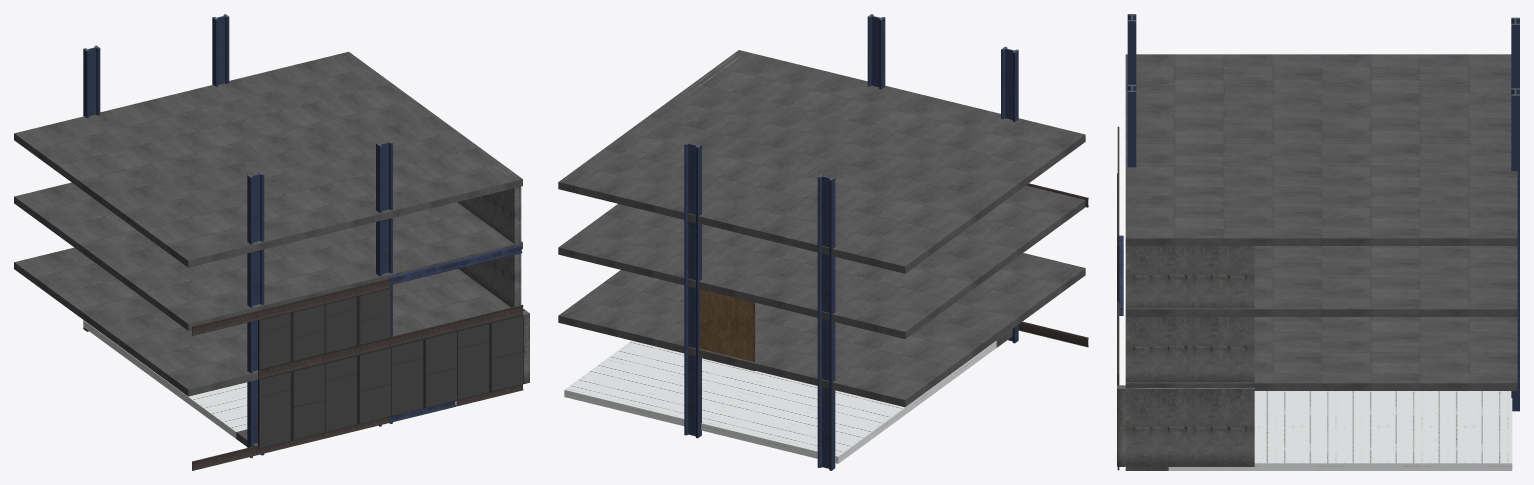
File: BuildingMap_0_0.gltf
3 renders of one model, left to right at view 1: azimuth 30°, elevation 25°; view 2: azimuth 150°, elevation 25°; view 3: azimuth 270°, elevation 25°, orthographic. The views are drawn at different scales.
Parts seen in each view (by area): view 1: SM_Floors_Thick_160, SM_Floors_Thick_161, SM_Floors_Thick_115, SM_Floors_Thick_112, SM_Floors_Thick_116, SM_Floors_Thick_113, SM_Facade_GlassWall29, SM_Facade_GlassWall33, SM_Facade_GlassWall35, SM_Facade_GlassWall38, SM_Facade_GlassWall39, SM_Facade_GlassWall40 (+19 smaller); view 2: SM_Floors_Thick_160, SM_Floors_Thick_161, SM_Floors_Thick_115, SM_Floors_Thick_112, SM_Floors_Thick_34, SM_Floors_Thick_116, SM_Floors_Thick_28, SM_Floors_Thick_113, SM_Wall_Inside_56, SM_Building_Pieces_2_SteelRudder182, SM_Building_Pieces_2_SteelRudder183, SM_Building_Pieces_2_SteelRudder185 (+5 smaller); view 3: SM_Floors_Thick_160, SM_Floors_Thick_161, SM_Floors_Thick_113, SM_Floors_Thick_116, SM_Floors_Thick_28, SM_Building_Pieces_WallConcrete6m29, SM_Building_Pieces_WallConcrete6m23, SM_Building_Pieces_WallConcrete6m42, SM_Floors_Thick_9, SM_Building_Pieces_2_SteelRudder185, SM_Building_Pieces_2_SteelRudder150, SM_Concrete_Column9 (+3 smaller).
Boxes of the visible parts, x1,y1,x2,y2 form: SM_Floors_Thick_160: (14, 88, 374, 267); SM_Floors_Thick_161: (200, 51, 522, 222); SM_Floors_Thick_115: (14, 182, 374, 330); SM_Floors_Thick_112: (14, 247, 258, 396); SM_Floors_Thick_116: (317, 202, 522, 281); SM_Floors_Thick_113: (393, 269, 510, 336); SM_Facade_GlassWall29: (258, 363, 325, 448); SM_Facade_GlassWall33: (324, 346, 391, 432); SM_Facade_GlassWall35: (391, 330, 457, 416); SM_Facade_GlassWall38: (457, 314, 523, 400); SM_Facade_GlassWall39: (258, 304, 325, 369); SM_Facade_GlassWall40: (325, 287, 391, 353); SM_Floors_Thick_160: (712, 87, 1085, 273); SM_Floors_Thick_161: (558, 50, 892, 226); SM_Floors_Thick_115: (712, 185, 1085, 338); SM_Floors_Thick_112: (712, 253, 1085, 407); SM_Floors_Thick_34: (701, 374, 917, 463); SM_Floors_Thick_116: (558, 204, 771, 291); SM_Floors_Thick_28: (564, 340, 768, 425); SM_Floors_Thick_113: (558, 270, 774, 360); SM_Wall_Inside_56: (700, 289, 755, 370); SM_Building_Pieces_2_SteelRudder182: (817, 321, 835, 470); SM_Building_Pieces_2_SteelRudder183: (817, 174, 835, 325); SM_Building_Pieces_2_SteelRudder185: (684, 141, 701, 292); SM_Floors_Thick_160: (1125, 54, 1511, 156); SM_Floors_Thick_161: (1125, 156, 1517, 245); SM_Floors_Thick_113: (1125, 317, 1517, 390); SM_Floors_Thick_116: (1125, 246, 1517, 316); SM_Floors_Thick_28: (1340, 391, 1512, 470); SM_Building_Pieces_WallConcrete6m29: (1125, 388, 1254, 466); SM_Building_Pieces_WallConcrete6m23: (1125, 317, 1254, 382); SM_Building_Pieces_WallConcrete6m42: (1125, 233, 1254, 308); SM_Floors_Thick_9: (1168, 391, 1340, 470); SM_Building_Pieces_2_SteelRudder185: (1511, 88, 1519, 253); SM_Building_Pieces_2_SteelRudder150: (1127, 84, 1136, 167); SM_Concrete_Column9: (1117, 385, 1125, 466).
Bounding box in the file's own units: 20.45 × 16.22 × 18.75.
Materials: 6 (6 with a texture image).
